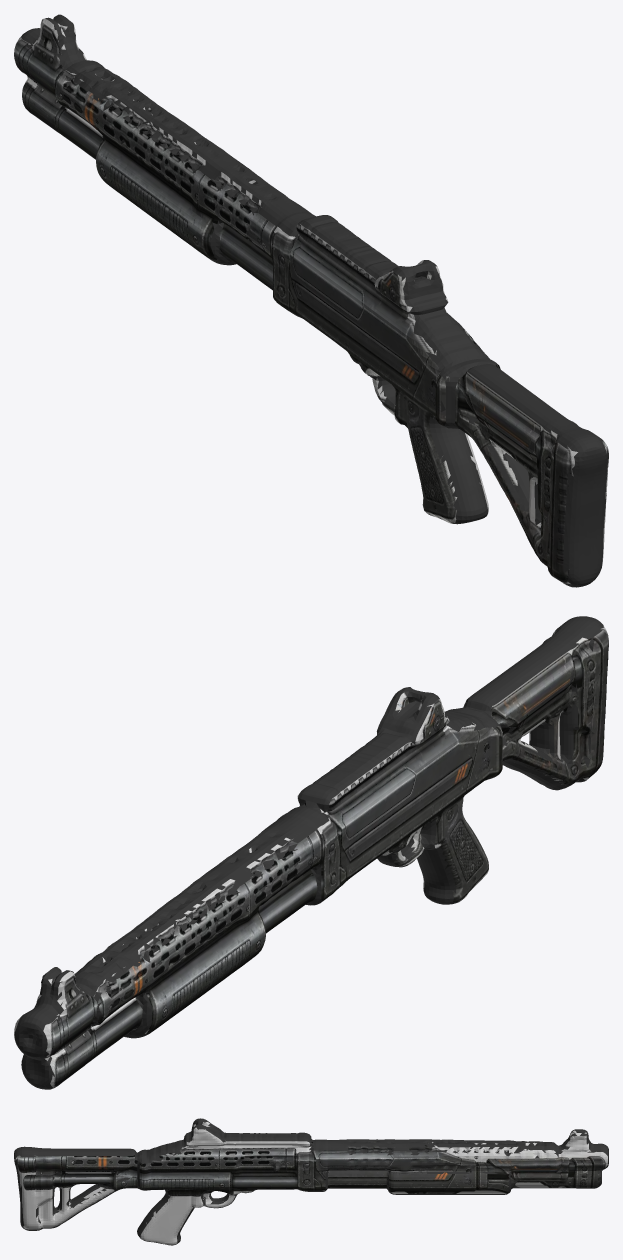
The model's file is breacher.glb.
3 views of the same model, one above another, from view 1: azimuth 30°, elevation 25°; view 2: azimuth 150°, elevation 25°; view 3: azimuth 270°, elevation 25° (orthographic). The views are drawn at different scales.
Visible parts, largest first — view 1: geometry_0; view 2: geometry_0; view 3: geometry_0.
Part boxes in pixels (x1=…): geometry_0: x1=14, y1=14, x2=608, y2=587; geometry_0: x1=14, y1=616, x2=608, y2=1089; geometry_0: x1=14, y1=1118, x2=608, y2=1245.
Bounding box in the file's own units: 0.0621 × 0.1903 × 0.85.
Materials: 1 (1 with a texture image).
